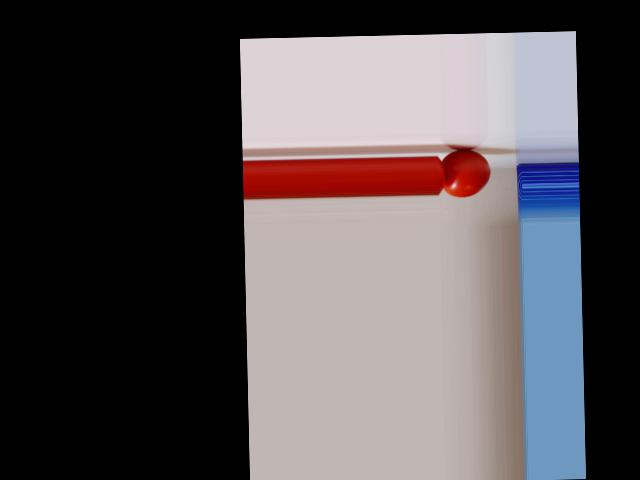tomato: (442, 149, 491, 197)
